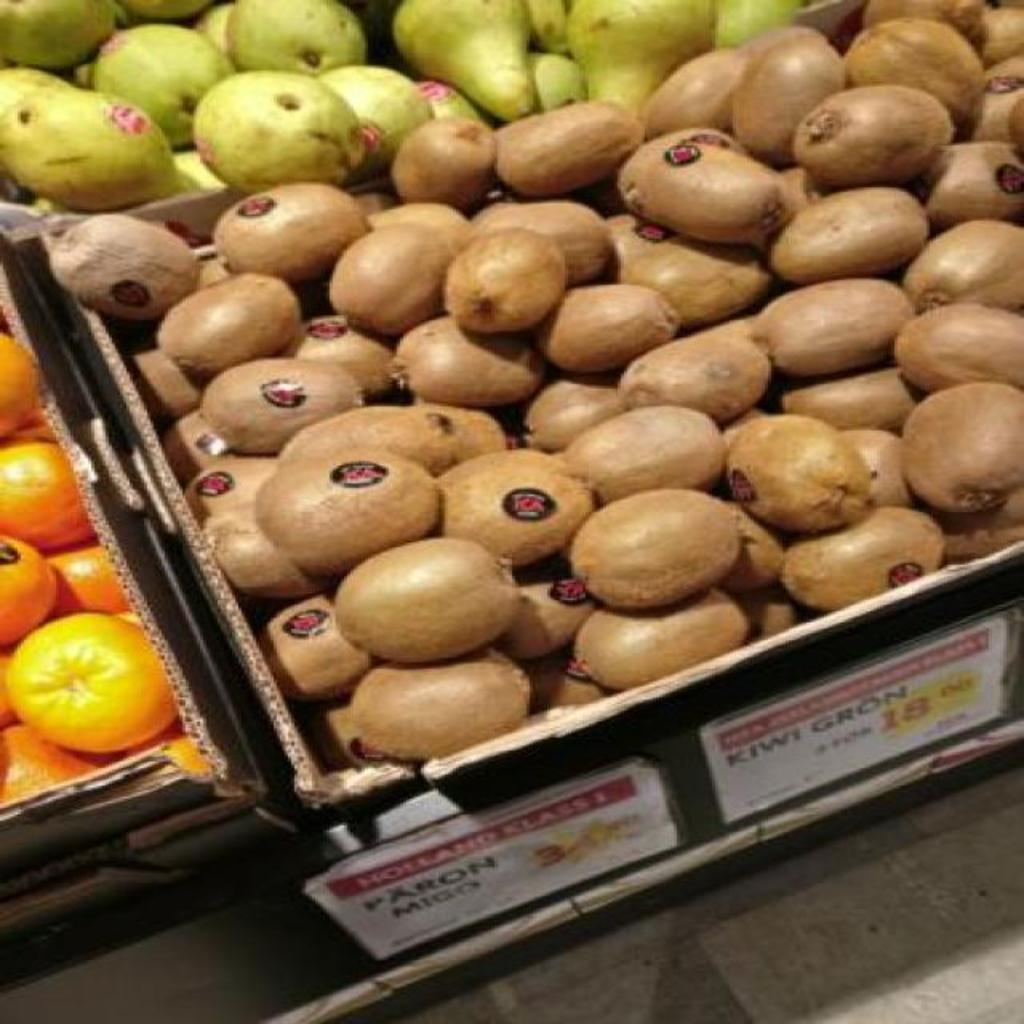kiwi: (256, 450, 440, 576), (336, 538, 517, 663), (571, 488, 744, 609), (349, 650, 528, 759), (619, 130, 784, 243), (437, 450, 592, 565), (573, 590, 749, 689), (615, 216, 771, 327), (795, 84, 955, 187), (728, 416, 869, 531), (280, 404, 507, 475), (787, 508, 944, 610), (619, 318, 771, 421), (904, 382, 1024, 512), (200, 358, 363, 453), (563, 408, 725, 503), (213, 182, 368, 281), (53, 214, 197, 319), (755, 282, 915, 376), (845, 18, 984, 125), (771, 190, 928, 283), (733, 34, 845, 163), (160, 276, 301, 377), (496, 102, 643, 197), (331, 226, 453, 335), (400, 318, 544, 407), (536, 284, 680, 373), (445, 228, 565, 333), (475, 200, 613, 285), (205, 507, 328, 598), (896, 304, 1024, 391), (264, 596, 371, 700), (904, 220, 1024, 311), (397, 118, 496, 209), (643, 50, 745, 137), (925, 144, 1024, 229), (781, 368, 915, 430), (293, 316, 395, 397), (499, 578, 595, 658), (525, 378, 621, 451), (867, 0, 985, 47), (368, 202, 475, 253), (187, 458, 276, 519), (971, 54, 1024, 141)
